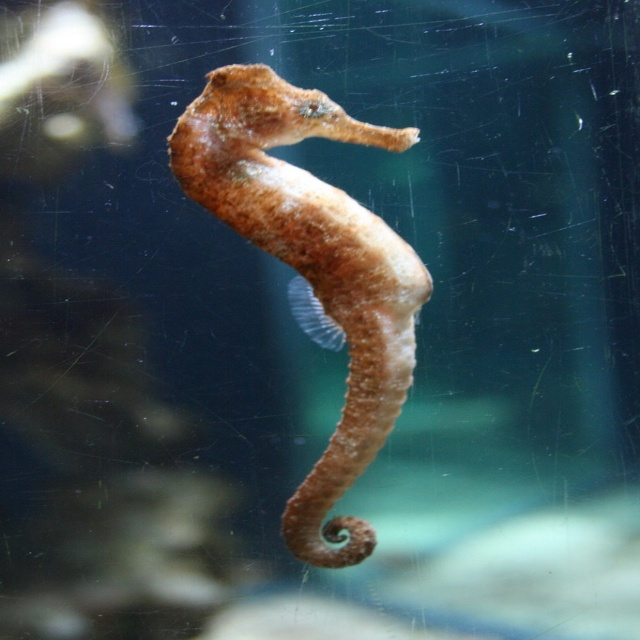Seahorse: (167, 63, 433, 569)
